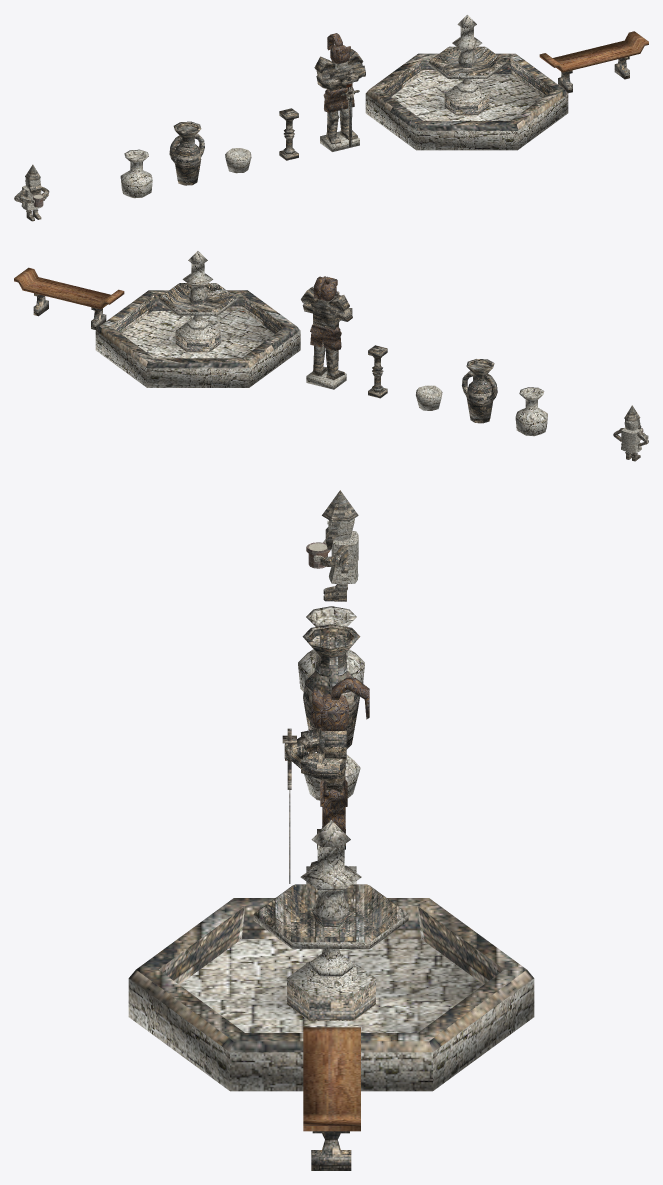
File: CoisasDeJardim.fbx
3 renders of one model, top to bottom at view 1: azimuth 30°, elevation 25°; view 2: azimuth 150°, elevation 25°; view 3: azimuth 270°, elevation 25°, orthographic. The views are drawn at different scales.
Visible parts, largest first — view 1: Fonte, Estatua, Banco, Vaso2, Vaso1, Anao, Balaustre, Vaso3, BracosPote; view 2: Fonte, Estatua, Banco, Vaso2, Vaso1, Anao, Balaustre, Vaso3; view 3: Fonte, Banco, Estatua, Vaso2, Anao, Vaso1.
Boxes of the visible parts, <box> form: Fonte: <box>365,14,568,150</box>; Estatua: <box>314,33,365,151</box>; Banco: <box>539,31,648,93</box>; Vaso2: <box>169,121,204,185</box>; Vaso1: <box>120,149,152,198</box>; Anao: <box>21,164,42,221</box>; Balaustre: <box>279,108,298,160</box>; Vaso3: <box>225,148,251,173</box>; BracosPote: <box>19,186,48,207</box>; Fonte: <box>95,251,300,387</box>; Estatua: <box>301,276,352,389</box>; Banco: <box>14,267,124,329</box>; Vaso2: <box>462,359,497,423</box>; Vaso1: <box>515,387,547,436</box>; Anao: <box>621,405,641,461</box>; Balaustre: <box>368,345,387,398</box>; Vaso3: <box>416,385,442,410</box>; Fonte: <box>128,820,534,1091</box>; Banco: <box>303,1027,360,1170</box>; Estatua: <box>282,678,369,884</box>; Vaso2: <box>302,624,360,749</box>; Anao: <box>322,490,358,601</box>; Vaso1: <box>298,606,364,691</box>.
Bounding box in the file's own units: 12.28 × 2.01 × 3.46.
